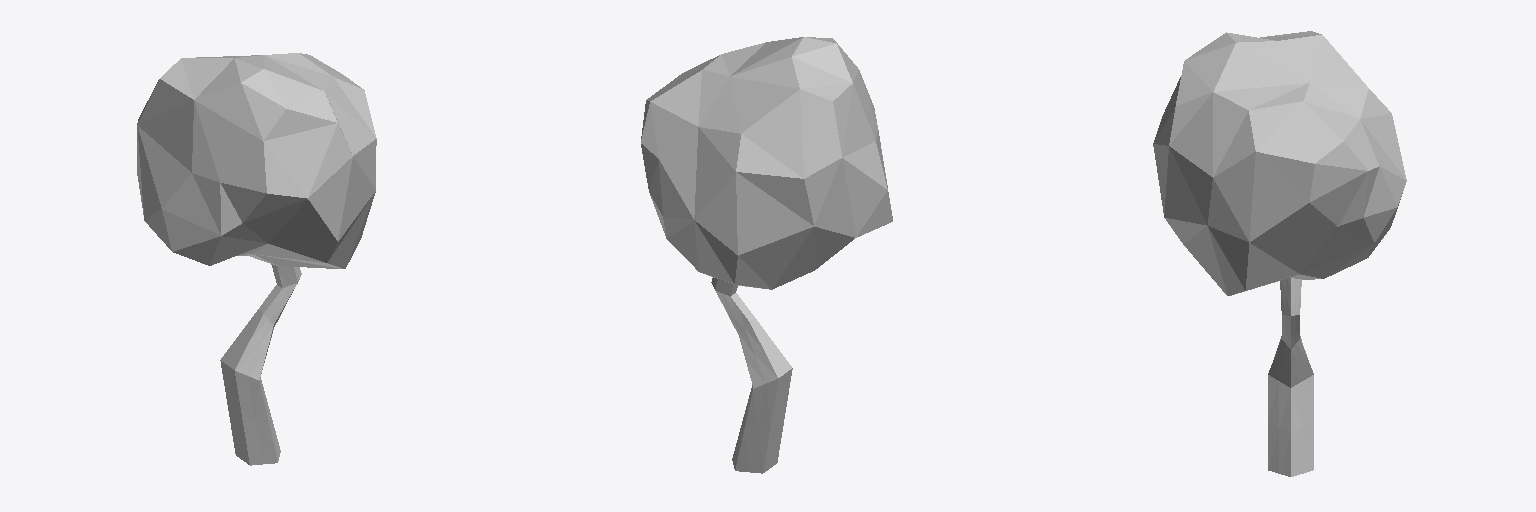
File: tree_xs_mapped.obj
3 renders of one model, left to right at view 1: azimuth 30°, elevation 25°; view 2: azimuth 150°, elevation 25°; view 3: azimuth 270°, elevation 25°, orthographic.
Visible parts, largest first — view 1: Cylinder002; view 2: Cylinder002; view 3: Cylinder002.
Boxes of the visible parts, x1,y1,x2,y2 form: Cylinder002: [137, 53, 376, 465]; Cylinder002: [641, 37, 892, 473]; Cylinder002: [1153, 31, 1406, 476].
Size of the model in its own units: 2.11 by 3.89 by 2.17.